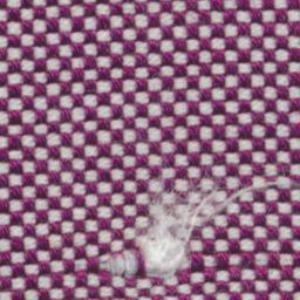fault: (92, 162, 271, 277)
